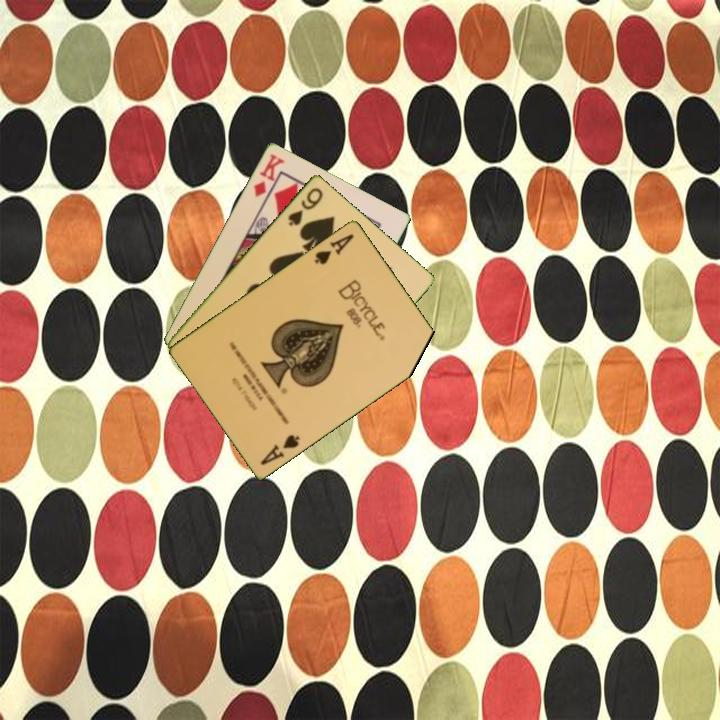9s: (284, 183, 326, 229)
As: (257, 430, 303, 468), (310, 230, 357, 267)
Kd: (250, 150, 287, 200)
